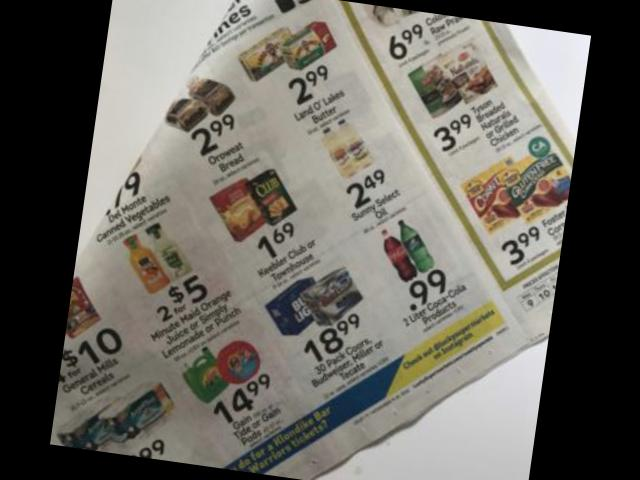cardboard paper: (49, 0, 576, 480)
